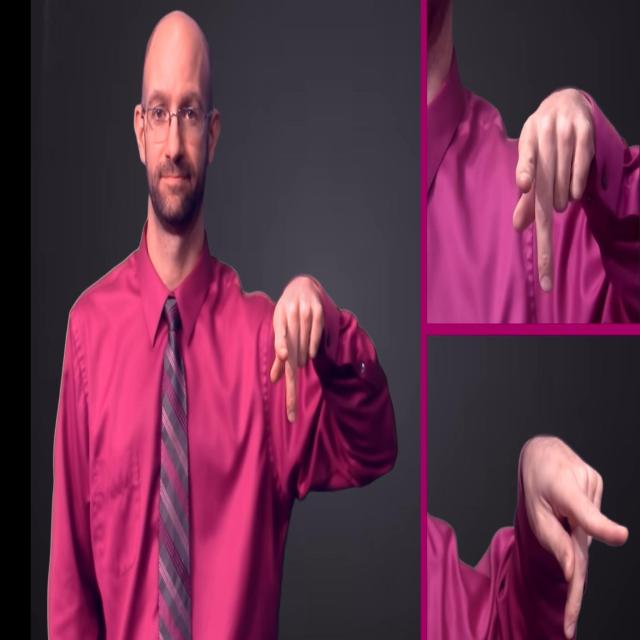P: (516, 431, 630, 639), (510, 84, 599, 294), (269, 270, 324, 423)
